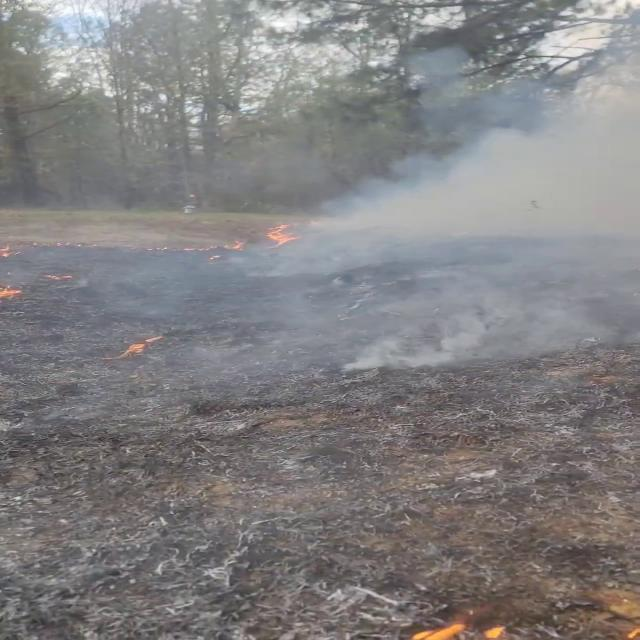Smoke: (226, 89, 636, 384)
